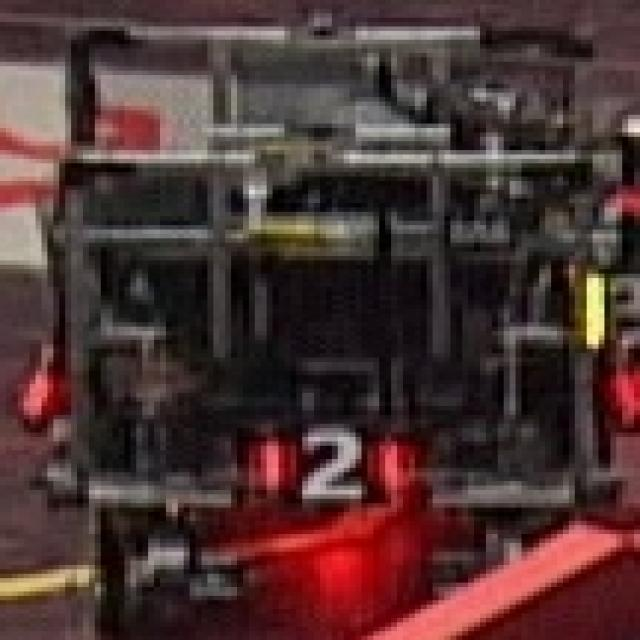R2: (249, 419, 403, 503)
